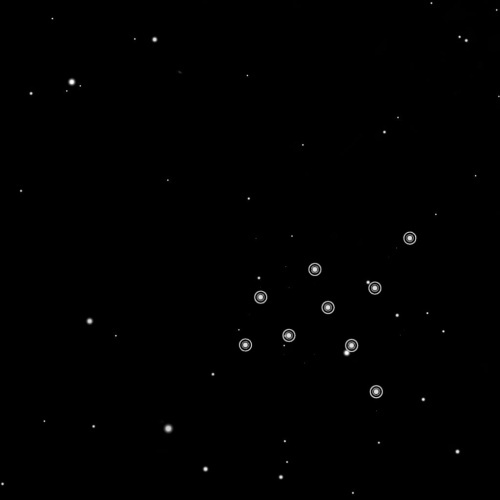cygnus: (236, 227, 418, 405)
